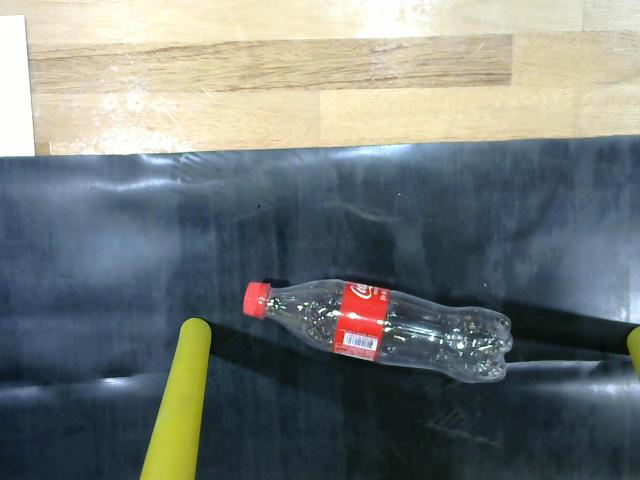bottle: (231, 271, 554, 387)
